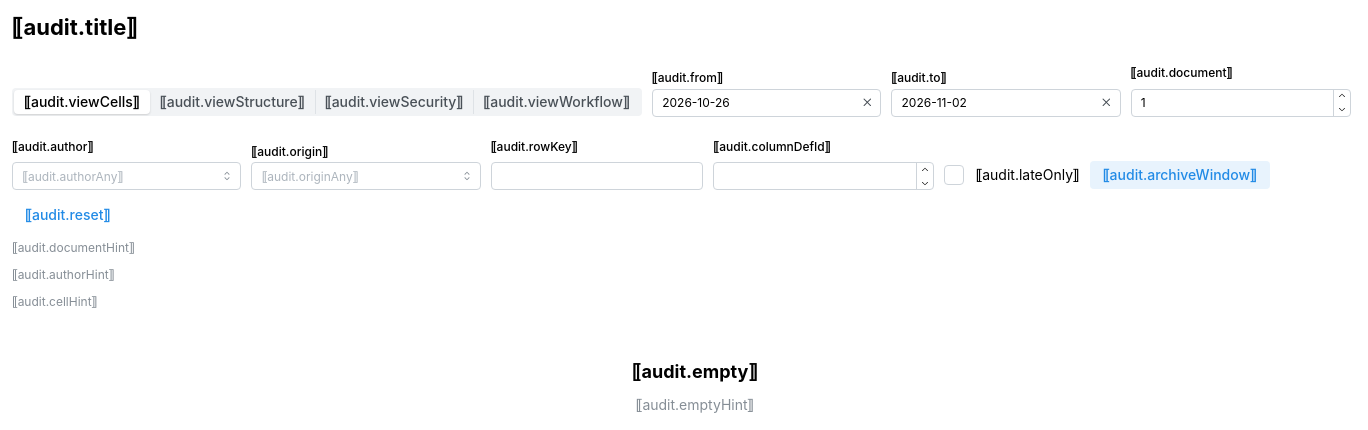
Test case: поле, прив'язане до адреси, при запізнілій адресі › /admin/audit «Row key»: R12345 — у полі рівно R12345, адреса наздоганяє; «Reset» очищає поле
Type "R12345" into the field labelled "⟦audit.rowKey⟧" at (597, 176), box [491,162,703,190]
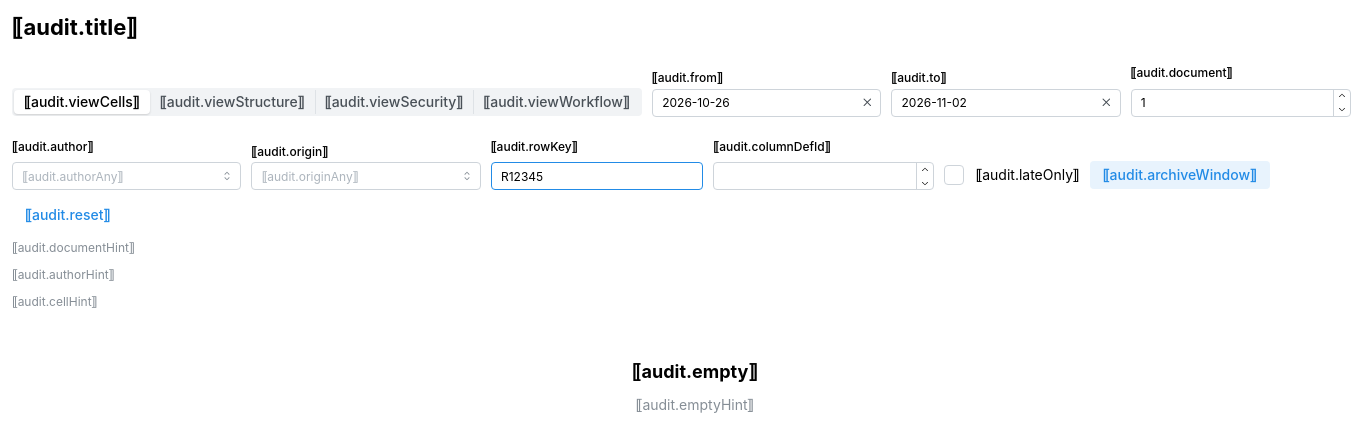
Click the button "⟦audit.reset⟧" at (68, 215), box [12,201,123,229]
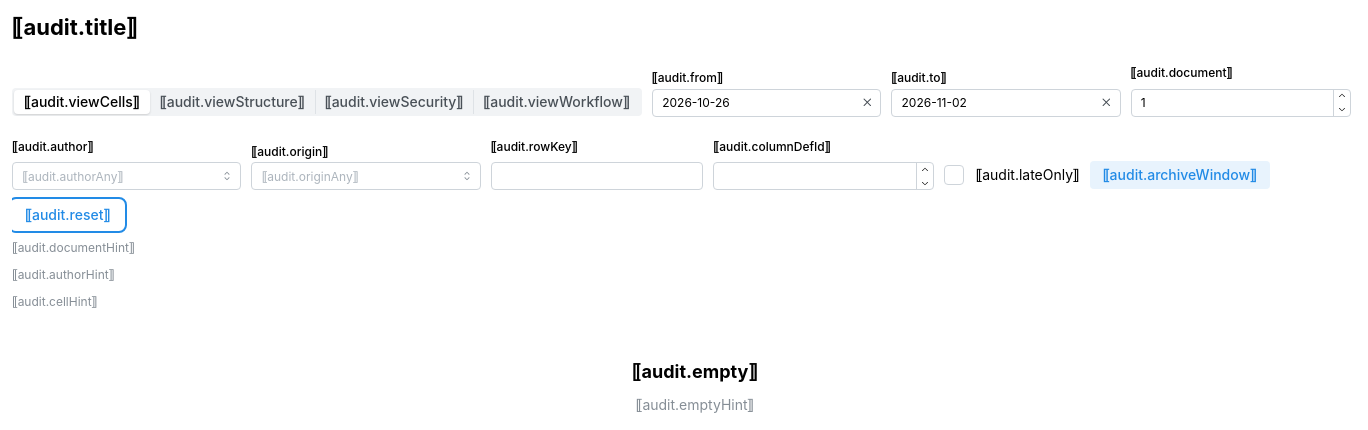
Result: the field labelled "⟦audit.rowKey⟧" is empty at [491,162,703,190]
